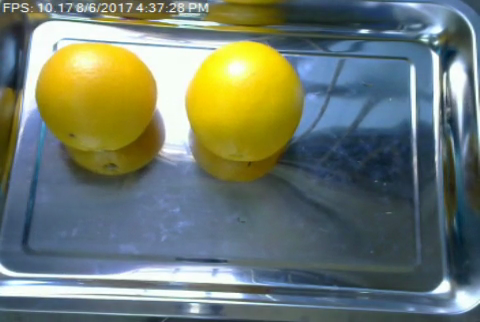Orange: (184, 41, 304, 160), (35, 42, 158, 150)
